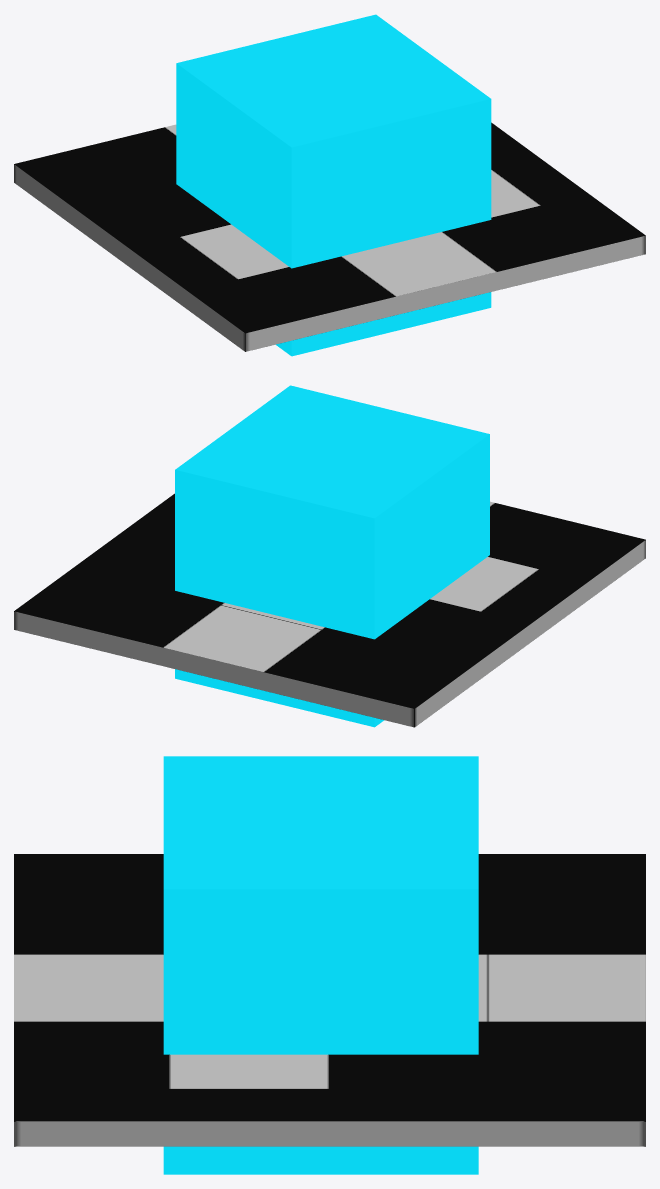
The model's file is room.gltf.
3 views of the same model, one above another, from view 1: azimuth 30°, elevation 25°; view 2: azimuth 150°, elevation 25°; view 3: azimuth 270°, elevation 25° (orthographic). The views are drawn at different scales.
Parts seen in each view (by area): view 1: Skybox, OutsideGround; view 2: Skybox, OutsideGround; view 3: OutsideGround, Skybox.
Part boxes in pixels (<box>): Skybox: <box>176,14,491,356</box>; OutsideGround: <box>14,122,645,351</box>; Skybox: <box>175,385,489,727</box>; OutsideGround: <box>14,493,645,727</box>; OutsideGround: <box>14,854,645,1146</box>; Skybox: <box>163,756,478,1174</box>.
Size of the model in its own units: 994 by 495 by 994.
Materials: 11 (9 with a texture image).
